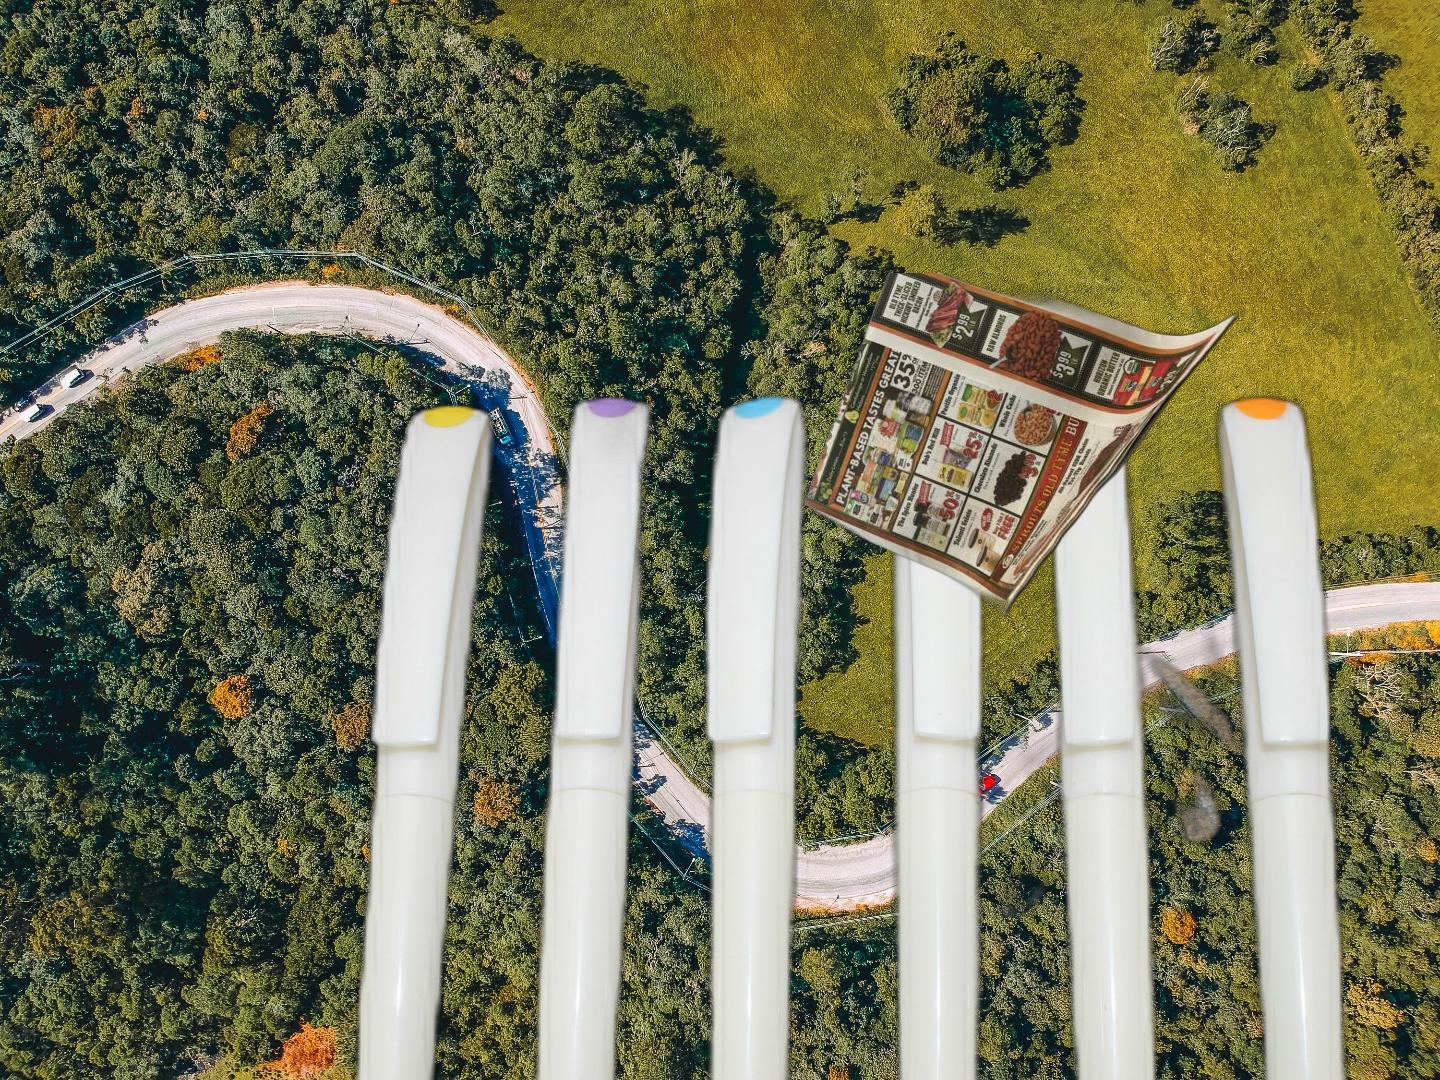paper: (799, 273, 1246, 621)
penholder: (311, 309, 1372, 1080)
